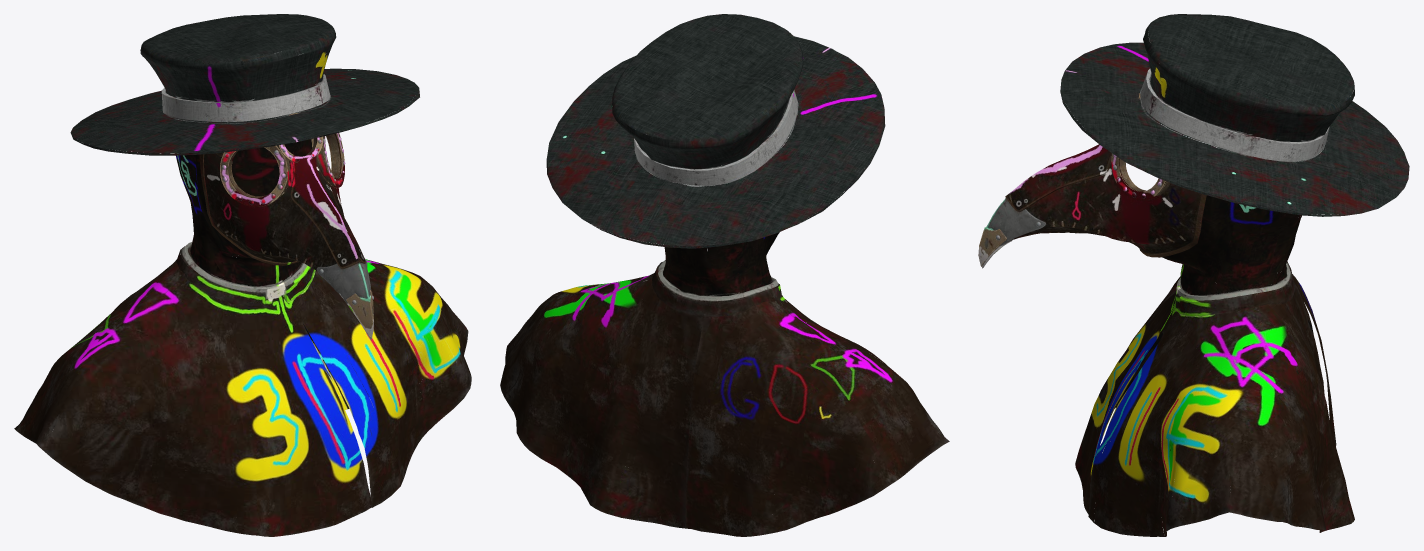
Rendered from plague_doctor_web.glb.
3 views of the same model, side by side, from view 1: azimuth 30°, elevation 25°; view 2: azimuth 150°, elevation 25°; view 3: azimuth 270°, elevation 25° (orthographic). The views are drawn at different scales.
Visible parts, largest first — view 1: plague_doctor_mesh; view 2: plague_doctor_mesh; view 3: plague_doctor_mesh.
Boxes of the visible parts, x1,y1,x2,y2 form: plague_doctor_mesh: (14, 14, 471, 536); plague_doctor_mesh: (500, 14, 949, 536); plague_doctor_mesh: (978, 14, 1409, 536).
Bounding box in the file's own units: 4.13 × 4.11 × 3.43.
2 materials, 2 textured.
